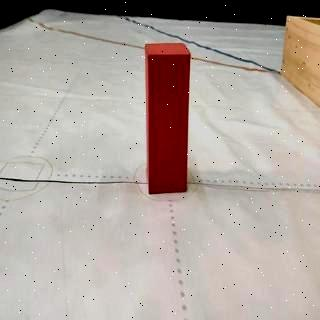redbox: (146, 43, 192, 194)
